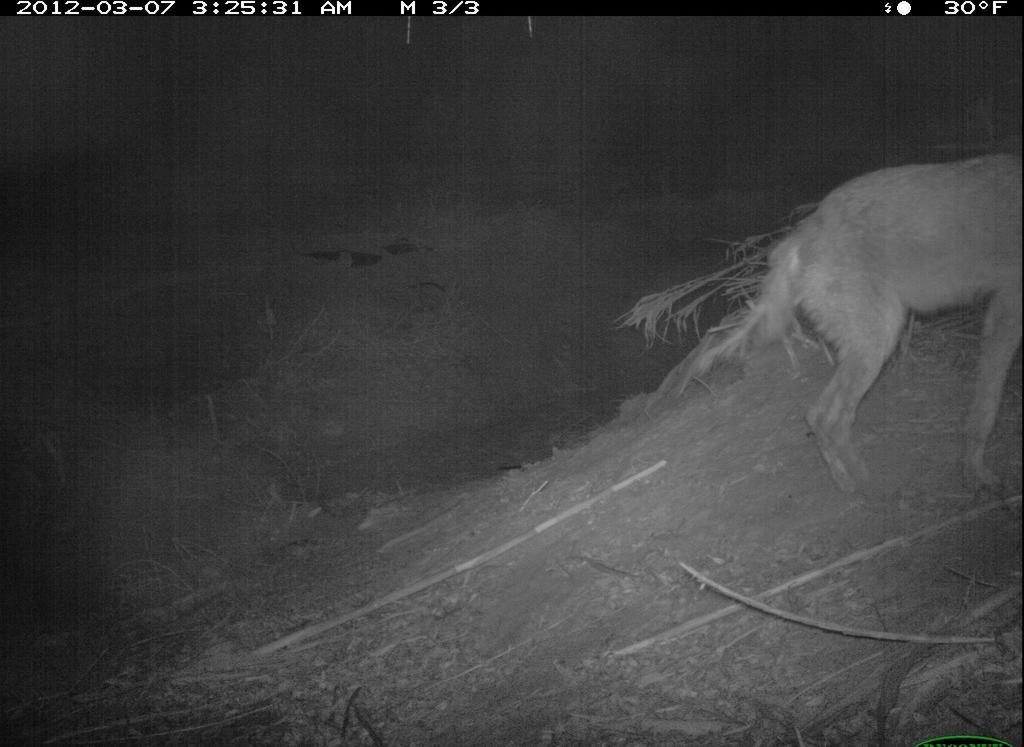coyote: (685, 113, 1013, 519)
